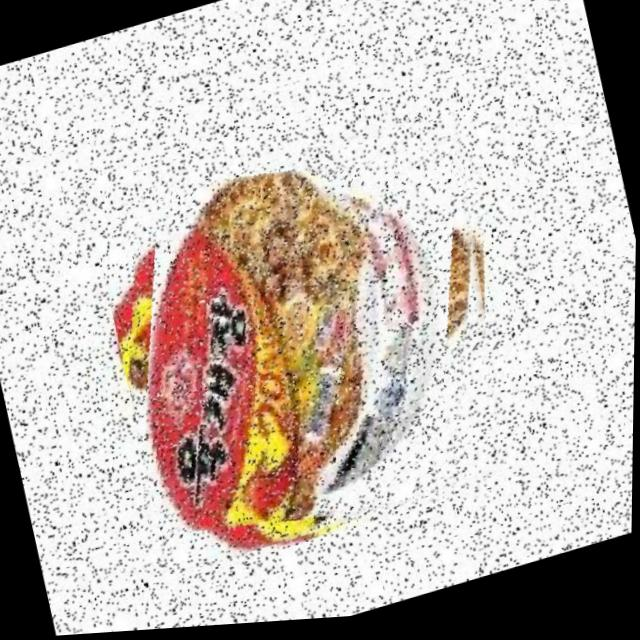Miscellaneous: (88, 111, 542, 584)
